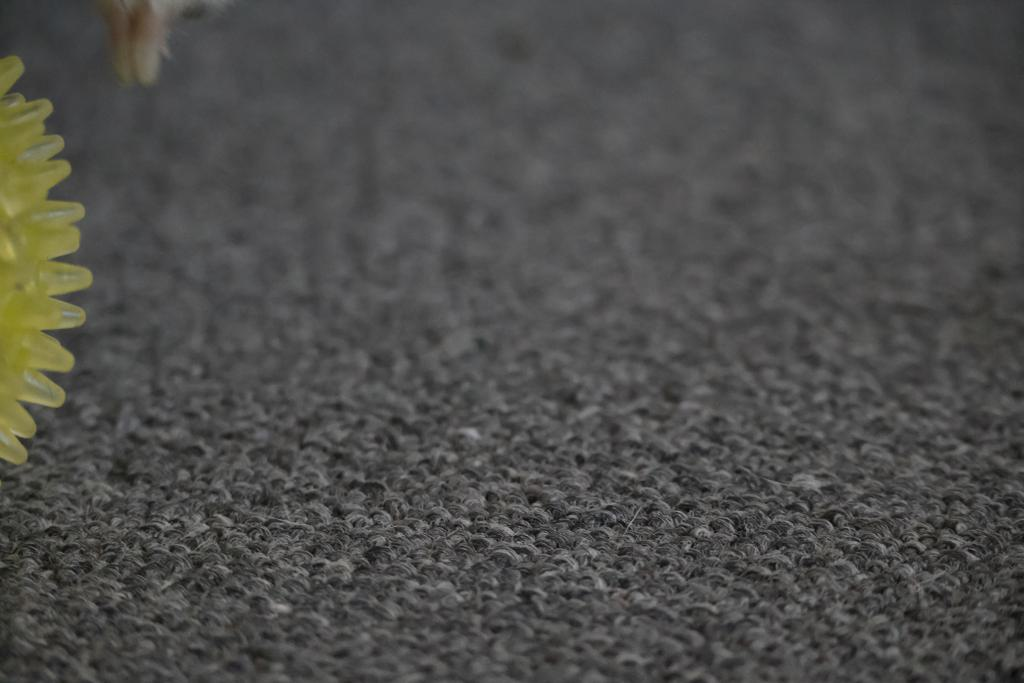Dog: (85, 0, 253, 113)
